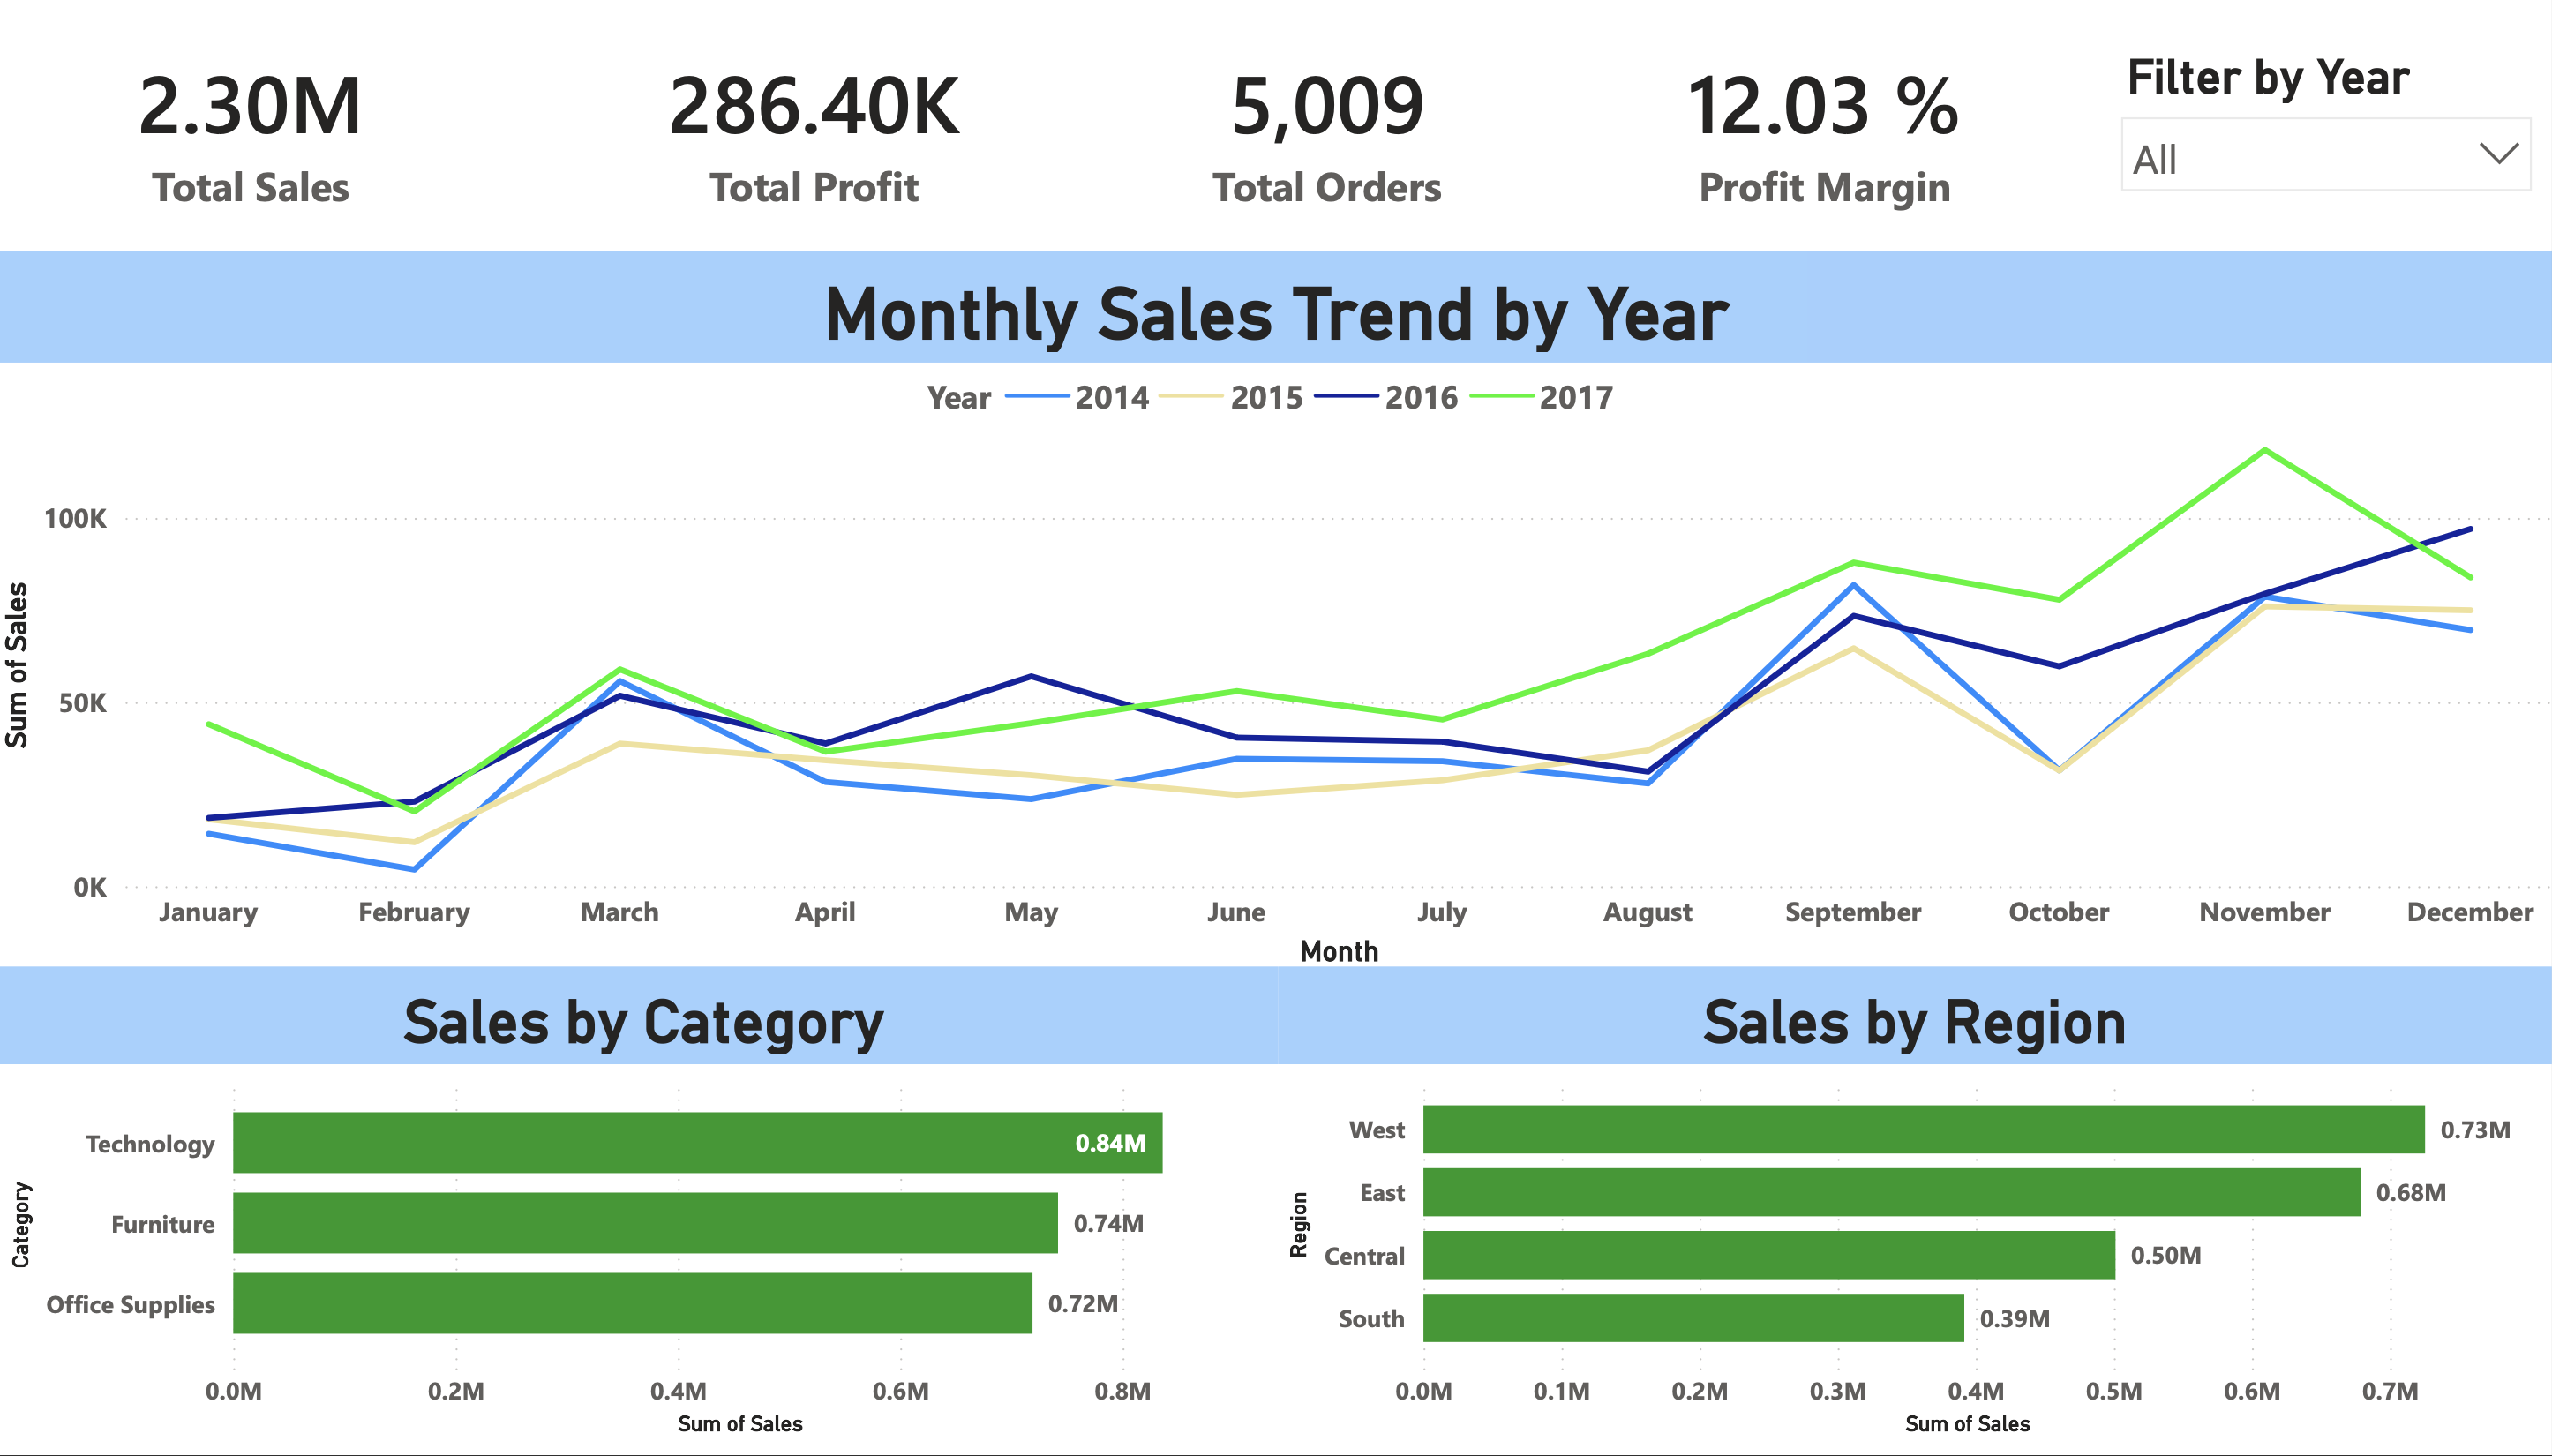

What the dashboard file says about the page in this screenshot:
{"tool":"powerbi","page":{"name":"Sales Overview","canvas":[1280,720],"ordinal":0},"visuals":[{"type":"cardVisual","fields":{"Data":["Sum(cleaned_data 1.Sales)"]},"box":[0,0,252.4,120.8],"z":0},{"type":"cardVisual","fields":{"Data":["Sum(cleaned_data 1.Profit)"]},"box":[298.8,0,219.9,120.8],"z":1000},{"type":"cardVisual","fields":{"Data":["Count(cleaned_data 1.Order ID)"]},"box":[560.5,0,210.6,120.8],"z":2000},{"type":"cardVisual","fields":{"Data":["Avg(cleaned_data 1.ProfitMargin)"]},"box":[805.2,0,221.4,120.8],"z":3000},{"type":"lineChart","title":"Monthly Sales Trend by Year","fields":{"Category":["cleaned_data 1.Order Date.Variation.Date Hierarchy.Month"],"Y":["Sum(cleaned_data 1.Sales)"],"Series":["cleaned_data 1.Year"]},"box":[0,120.8,1280.5,359.2],"z":4000},{"type":"clusteredBarChart","title":"Sales by Category","fields":{"Category":["cleaned_data 1.Category"],"Y":["Sum(cleaned_data 1.Sales)"]},"box":[0,480,641,240],"z":5000},{"type":"clusteredBarChart","title":"Sales by Region","fields":{"Category":["cleaned_data 1.Region"],"Y":["Sum(cleaned_data 1.Sales)"]},"box":[641,480,639.5,240],"z":6000},{"type":"slicer","title":"Filter by Year","fields":{"Values":["cleaned_data 1.Year"]},"box":[1054.5,0,226.1,120.8],"z":7000}]}

Visuals, with their boxes in screenshot pixels (x1, y1, x2, y2), scaled from the page's 1280x720 canvas onto the 2552x1456 screenshot:
cardVisual - Sum(cleaned_data 1.Sales): rect(0, 0, 503, 244)
cardVisual - Sum(cleaned_data 1.Profit): rect(596, 0, 1034, 244)
cardVisual - Count(cleaned_data 1.Order ID): rect(1117, 0, 1537, 244)
cardVisual - Avg(cleaned_data 1.ProfitMargin): rect(1605, 0, 2046, 244)
"Monthly Sales Trend by Year" lineChart: rect(0, 244, 2551, 971)
"Sales by Category" clusteredBarChart: rect(0, 971, 1278, 1455)
"Sales by Region" clusteredBarChart: rect(1278, 971, 2551, 1455)
"Filter by Year" slicer: rect(2103, 0, 2551, 244)
